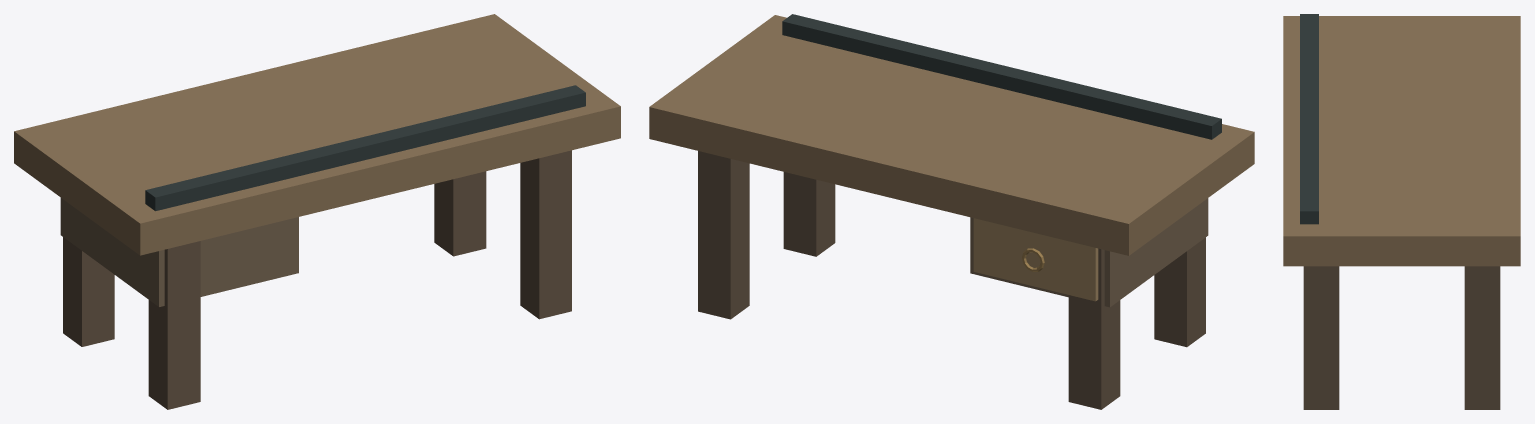
The model's file is S2_CaptainDesk.fbx.
3 views of the same model, side by side, from view 1: azimuth 30°, elevation 25°; view 2: azimuth 150°, elevation 25°; view 3: azimuth 270°, elevation 25° (orthographic). The views are drawn at different scales.
Parts seen in each view (by area): view 1: S2_CaptainDesk; view 2: S2_CaptainDesk; view 3: S2_CaptainDesk.
Boxes of the visible parts, left/top/right/bottom form: S2_CaptainDesk: left=14, top=14, right=620, bottom=409; S2_CaptainDesk: left=649, top=14, right=1254, bottom=409; S2_CaptainDesk: left=1283, top=14, right=1520, bottom=409.
Bounding box in the file's own units: 2.2 × 0.95 × 1.
